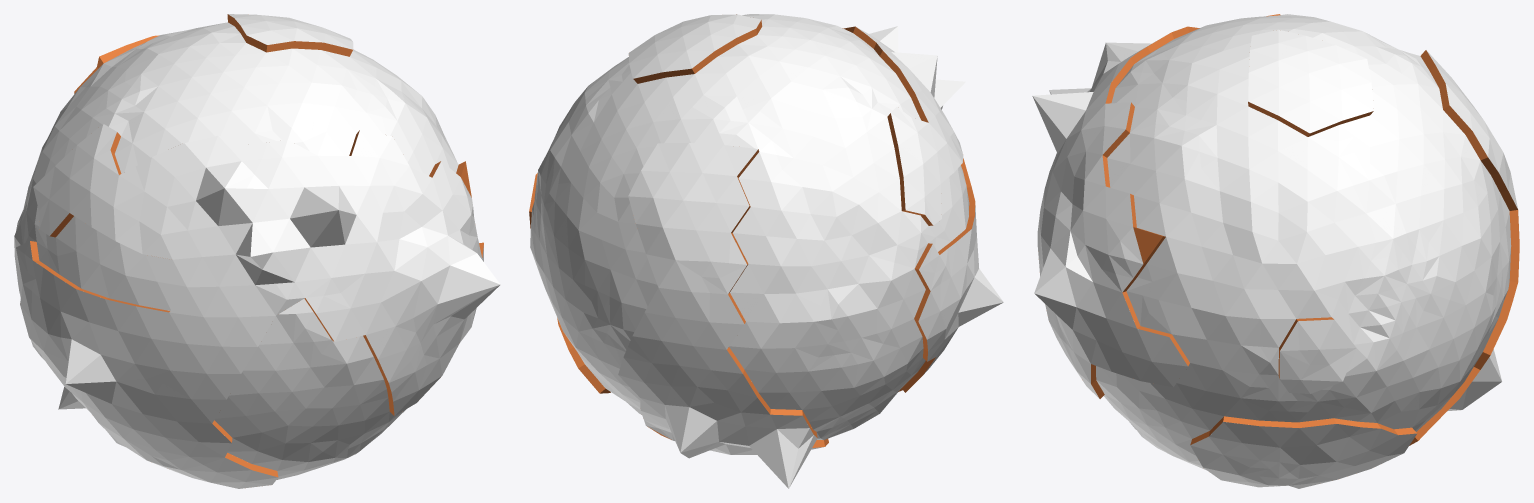
The model's file is planet.glb.
3 views of the same model, side by side, from view 1: azimuth 30°, elevation 25°; view 2: azimuth 150°, elevation 25°; view 3: azimuth 270°, elevation 25° (orthographic). The views are drawn at different scales.
Visible parts, largest first — view 1: Terra; view 2: Terra; view 3: Terra.
Boxes of the visible parts, bbox=[...] form: Terra: bbox=[14, 14, 500, 488]; Terra: bbox=[529, 14, 1003, 488]; Terra: bbox=[1032, 14, 1519, 488].
Bounding box in the file's own units: 13.39 × 12.64 × 12.87.
